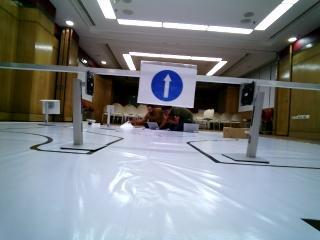straight: (142, 60, 197, 109)
